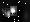person: (3, 6, 10, 17), (11, 7, 18, 17)
